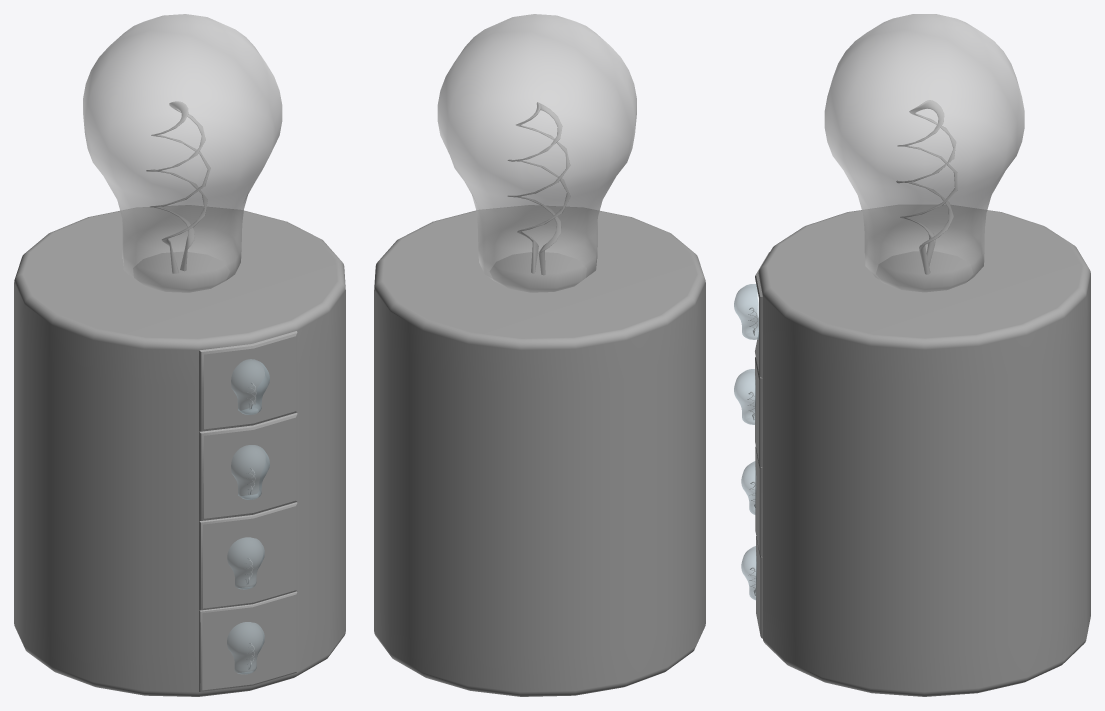
File: generator.fbx
3 renders of one model, left to right at view 1: azimuth 30°, elevation 25°; view 2: azimuth 150°, elevation 25°; view 3: azimuth 270°, elevation 25°, orthographic.
Parts seen in each view (by area): view 1: first_bulb; view 2: first_bulb; view 3: first_bulb.
Part boxes in pixels (x1,y1,x2,y2): first_bulb: (14,14,345,696); first_bulb: (374,14,705,696); first_bulb: (734,14,1090,696).
Size of the model in its own units: 40.77 by 82.41 by 43.91.
